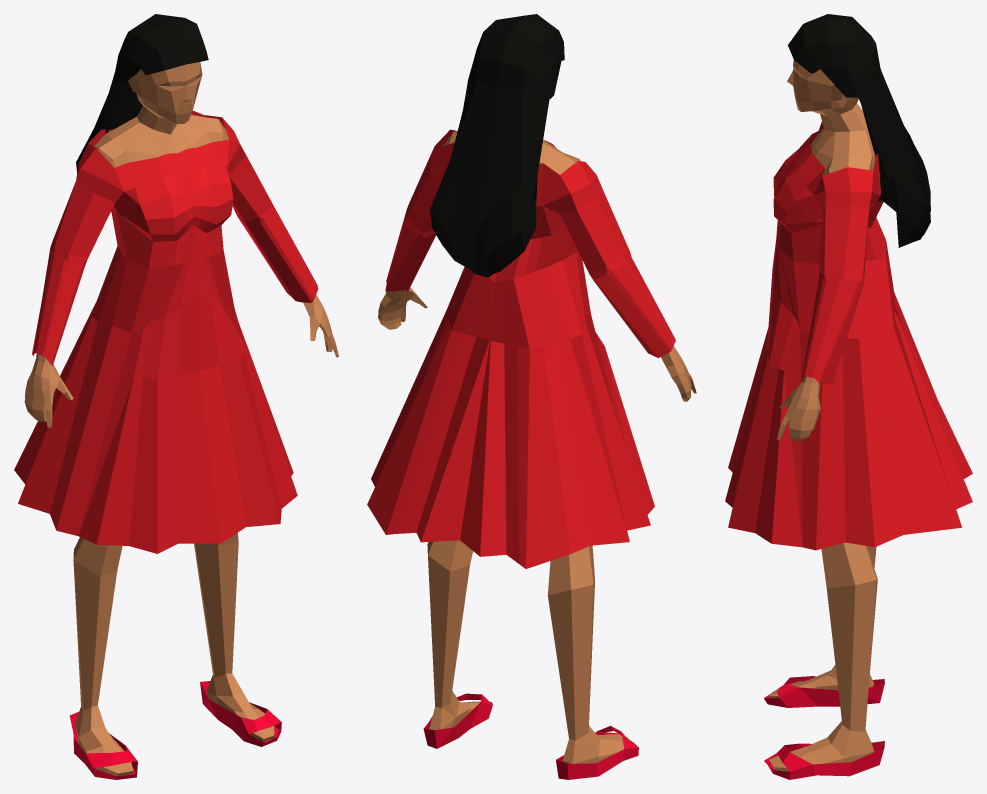
Rendered from girl2.fbx.
3 views of the same model, side by side, from view 1: azimuth 30°, elevation 25°; view 2: azimuth 150°, elevation 25°; view 3: azimuth 270°, elevation 25° (orthographic).
Parts seen in each view (by area): view 1: female.005; view 2: female.005; view 3: female.005.
Boxes of the visible parts, x1,y1,x2,y2 form: female.005: (14,14,338,779); female.005: (367,14,696,779); female.005: (725,14,972,779).
Bounding box in the file's own units: 149 × 339 × 106.
